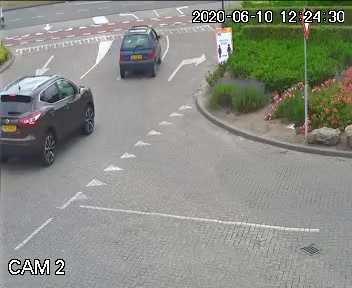car: (0, 68, 106, 169), (114, 15, 162, 88)
